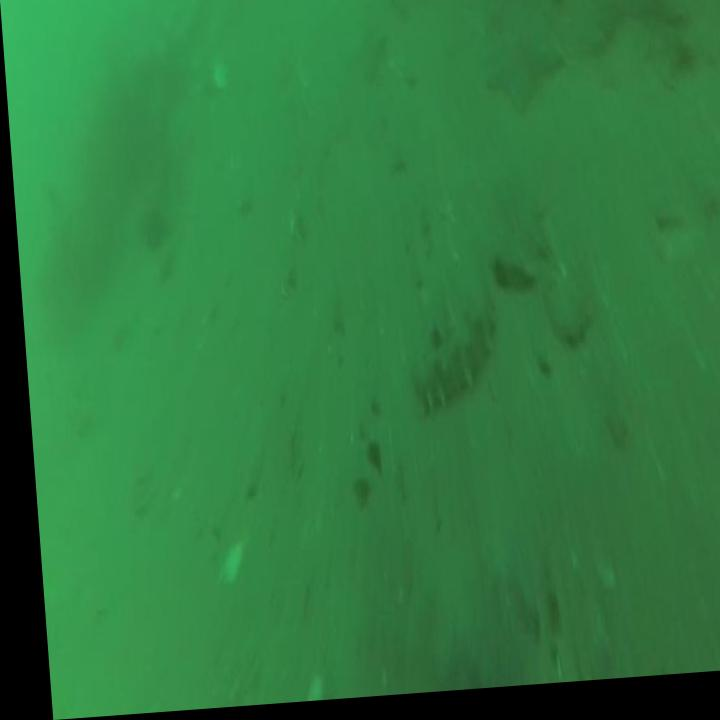holothurian: (404, 298, 495, 417)
starfish: (481, 35, 561, 122)
